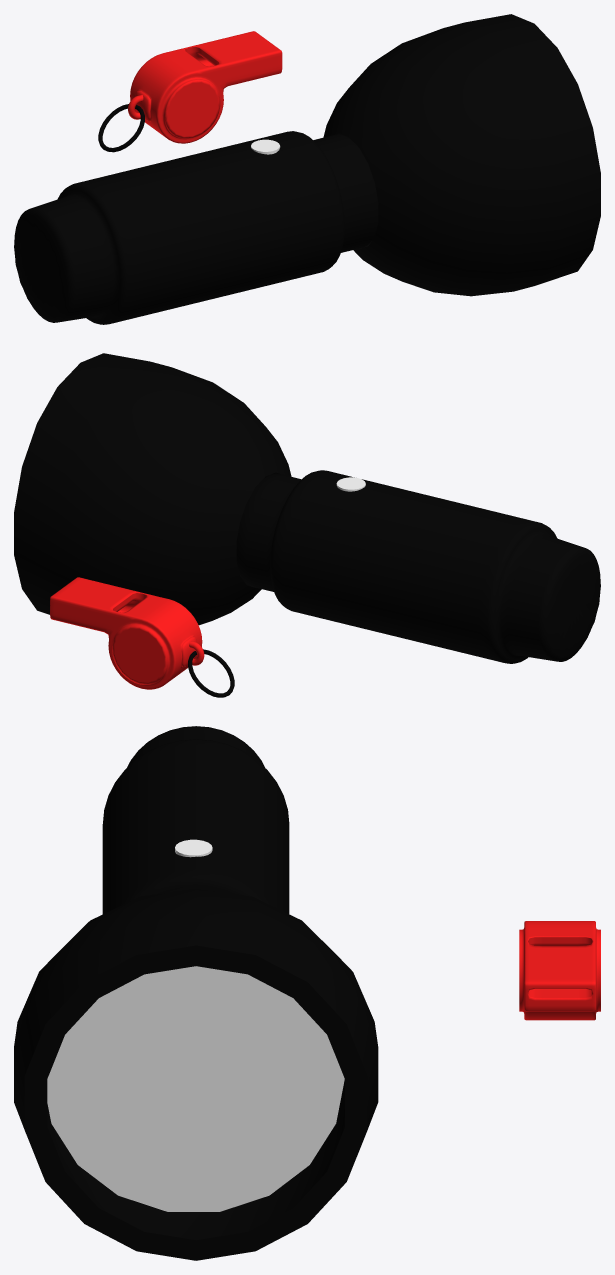
The model's file is flashlight_whistle_fix.FBX.
The picture shows the model from 3 angles, top to bottom: view 1: azimuth 30°, elevation 25°; view 2: azimuth 150°, elevation 25°; view 3: azimuth 270°, elevation 25°; orthographic projection. The views are drawn at different scales.
Visible parts, largest first — view 1: Tube001, hand, Cylinder001, Torus002; view 2: Tube001, hand, Cylinder001, Torus002; view 3: Cylinder003, Tube001, hand, Cylinder001.
Part boxes in pixels (x1,y1,x2,y2): Tube001: (323, 14, 600, 296); hand: (14, 131, 378, 324); Cylinder001: (128, 31, 282, 143); Torus002: (98, 104, 144, 152); Tube001: (14, 353, 291, 625); hand: (236, 470, 600, 663); Cylinder001: (50, 577, 204, 689); Torus002: (188, 649, 234, 697); Cylinder003: (47, 966, 344, 1211); Tube001: (14, 888, 378, 1260); hand: (102, 726, 289, 913); Cylinder001: (519, 921, 600, 1020).
Bounding box in the file's own units: 78.24 × 37.51 × 62.4.
